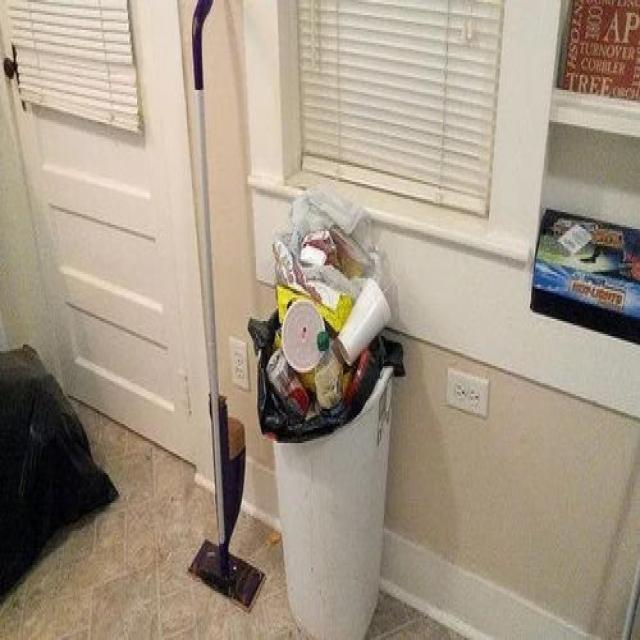overflow: (247, 188, 405, 638)
